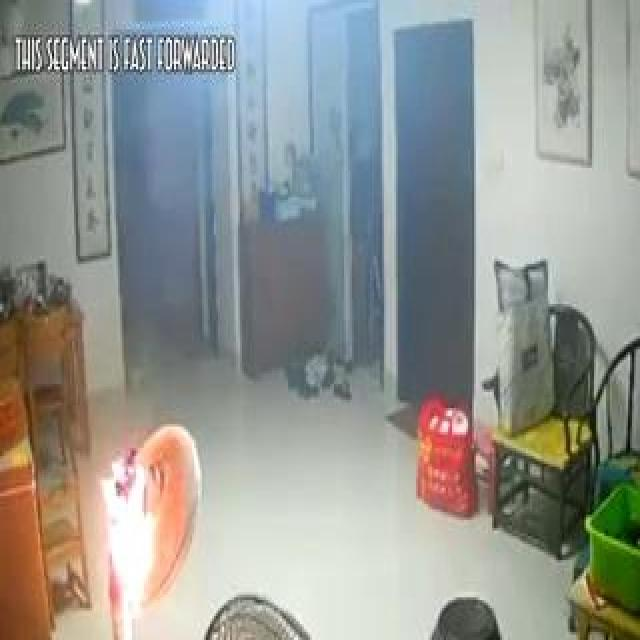Fire: (99, 378, 193, 626)
